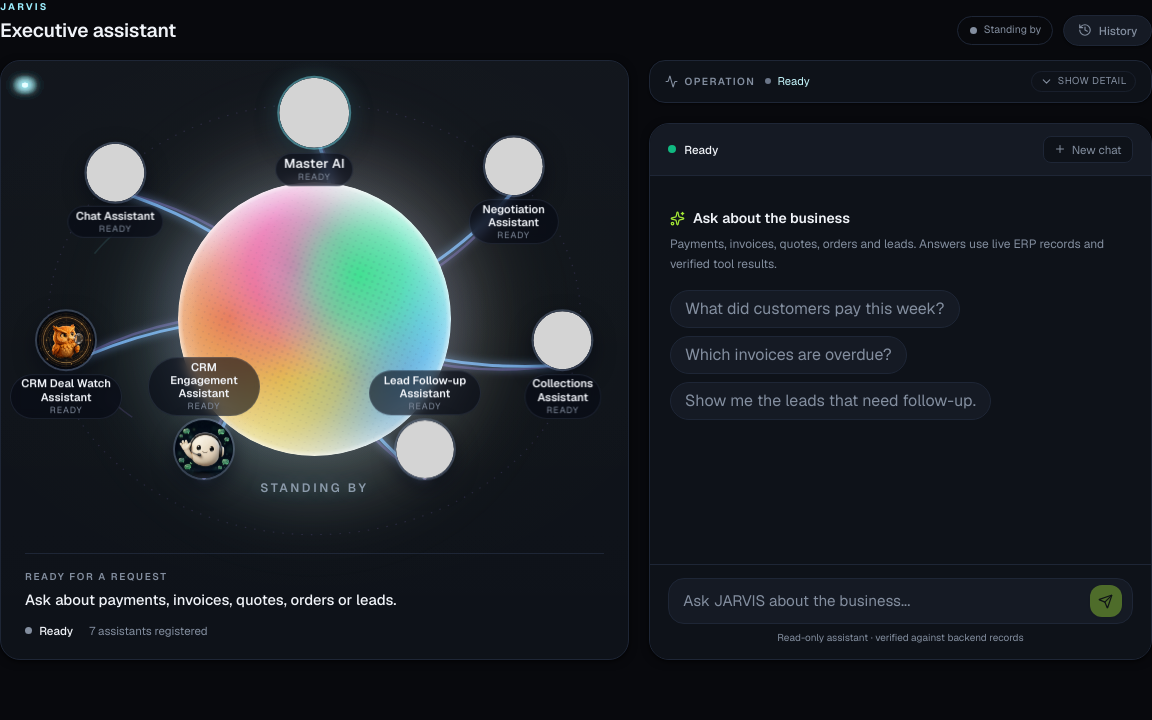
Test case: CommandCenter workspace › opens execution history, lists real requests and replays a selected task
The width and height of the screenshot is (1152, 720).
Expected: the text "Master AI" is shown, [284,156,345,171]
Click the button with aria-label "Open execution history": (1108, 30) [1063,15,1151,46]
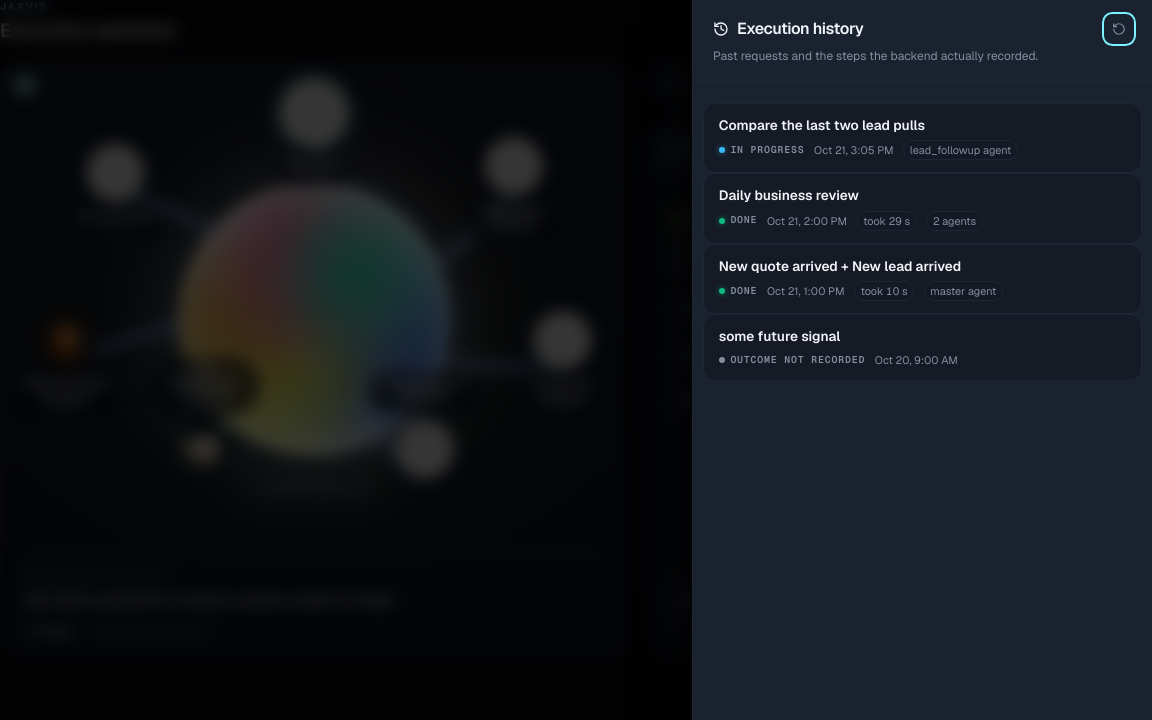
Expected: the text "Compare the last two lead pulls" is shown
Expected: the text "Daily business review" is shown, [719,186,859,205]
Click the text "Compare the last two lead pulls": (822, 125) [719,116,925,135]
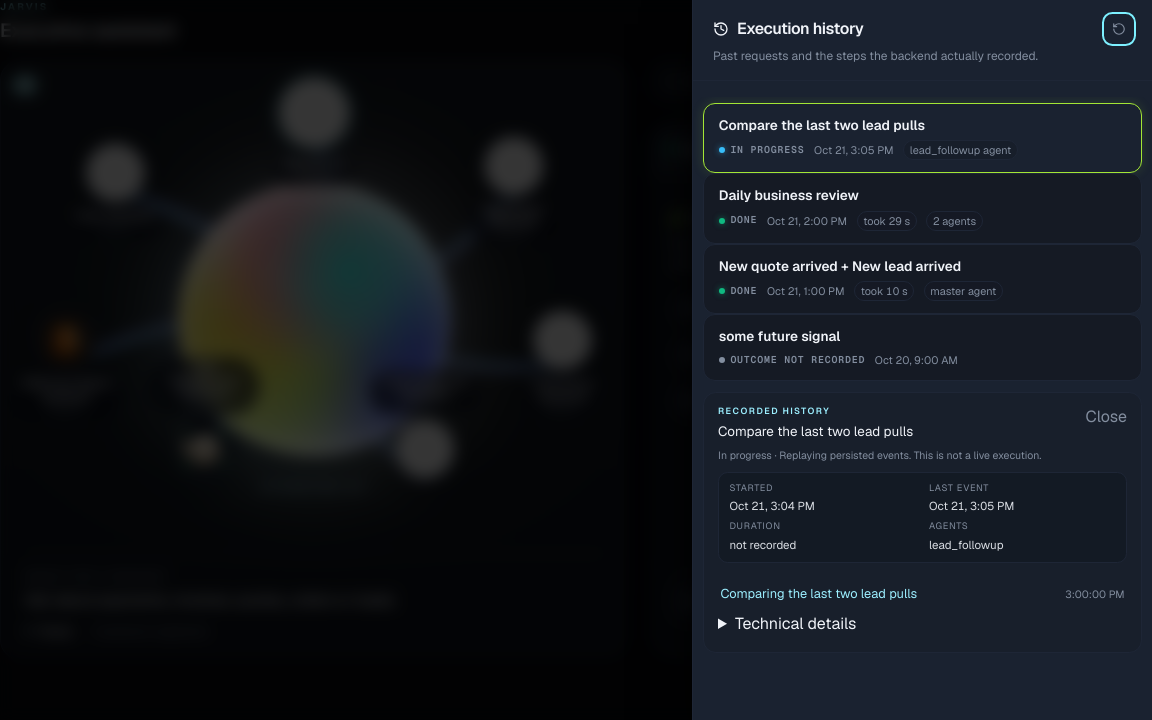
Expected: the text "Recorded history" is shown, [718,405,830,417]
Expected: the text "not a live execution" is shown, [772,448,1042,462]
Expected: the text "Comparing the last two lead pulls" is shown, [720,585,917,604]
